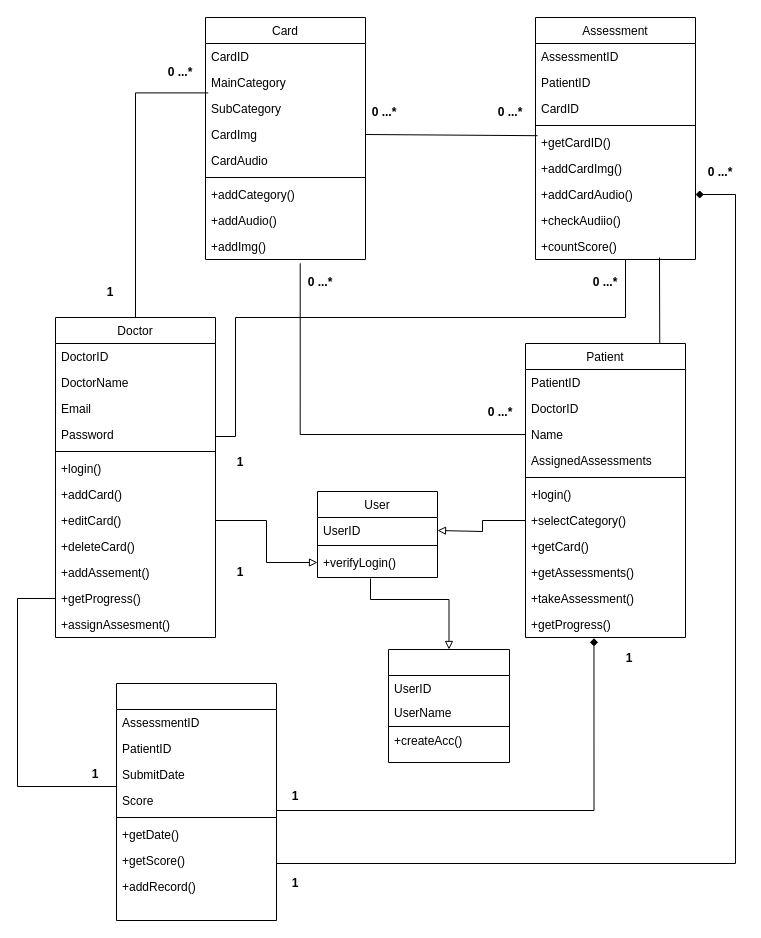
The diagram is 761 pixels wide and 938 high, and some of its shapes have lost their labels. The box of each missing label's shape, as (x1, y1, x2, y2) in pixels:
Progress: (116, 682, 276, 920)
RegistrationInfo: (388, 648, 510, 762)
